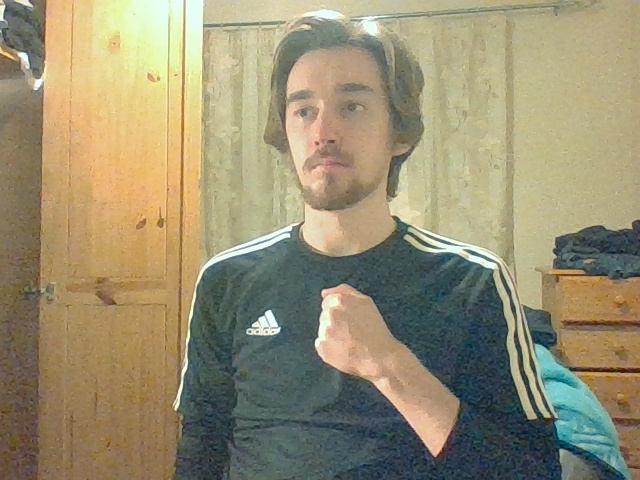my: (314, 283, 386, 378)
